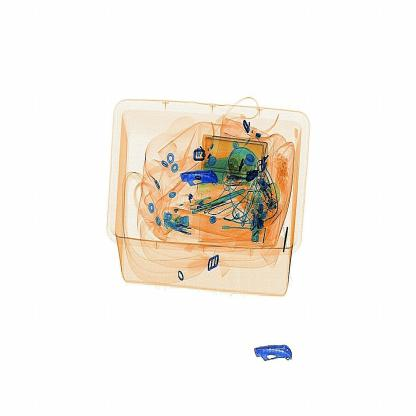knife: (175, 166, 228, 200)
